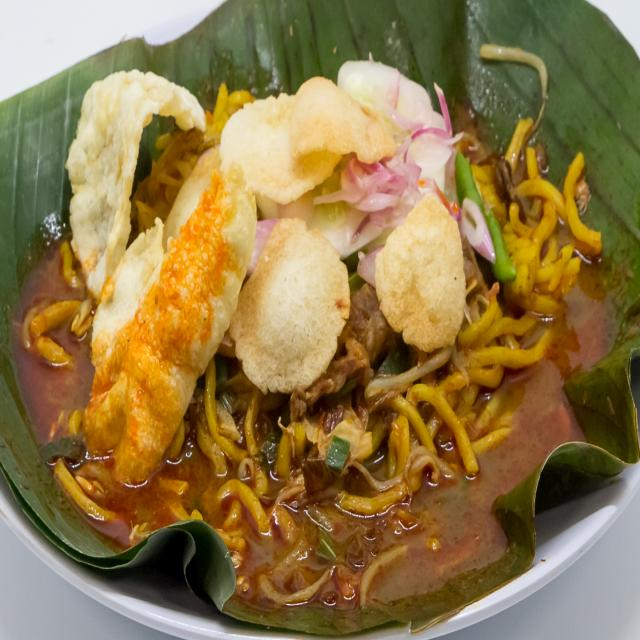Mie-Aceh: (21, 46, 608, 581)
